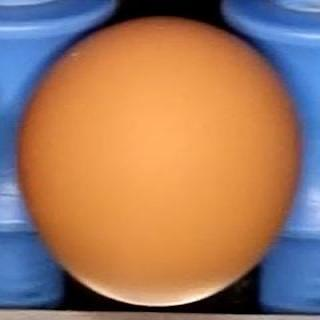Telur: (8, 16, 306, 309)
